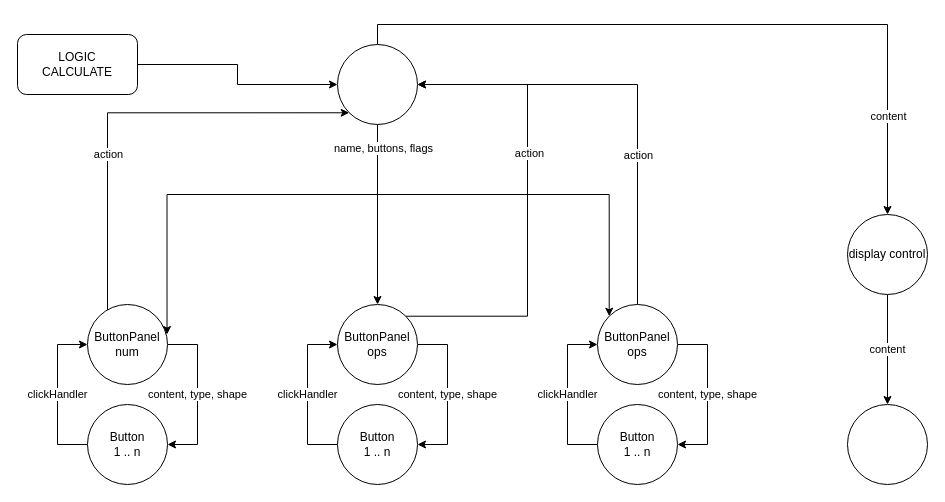
Some shapes in this 945 by 502 pixel diagram are drawn without their labels. Here are the shapes that lost their labels. From the top down, the centre of each, then its label:
At point 377,84: "Calculator".
At point 887,444: "display".
